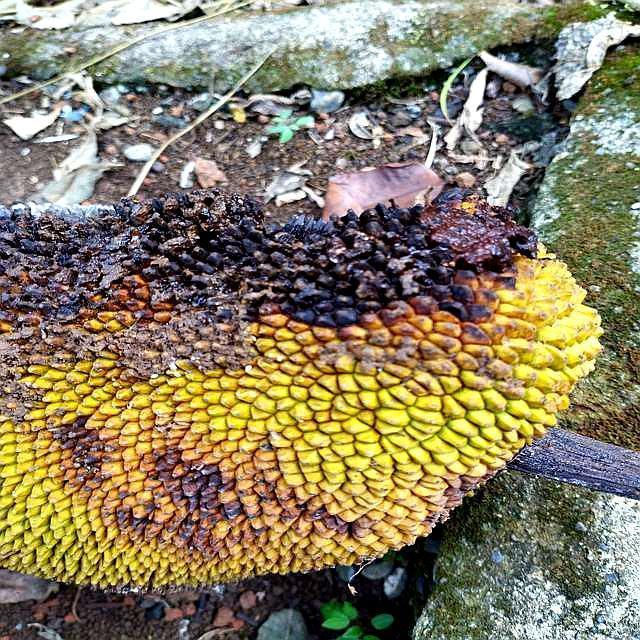Biodegradable: (5, 205, 601, 581)
